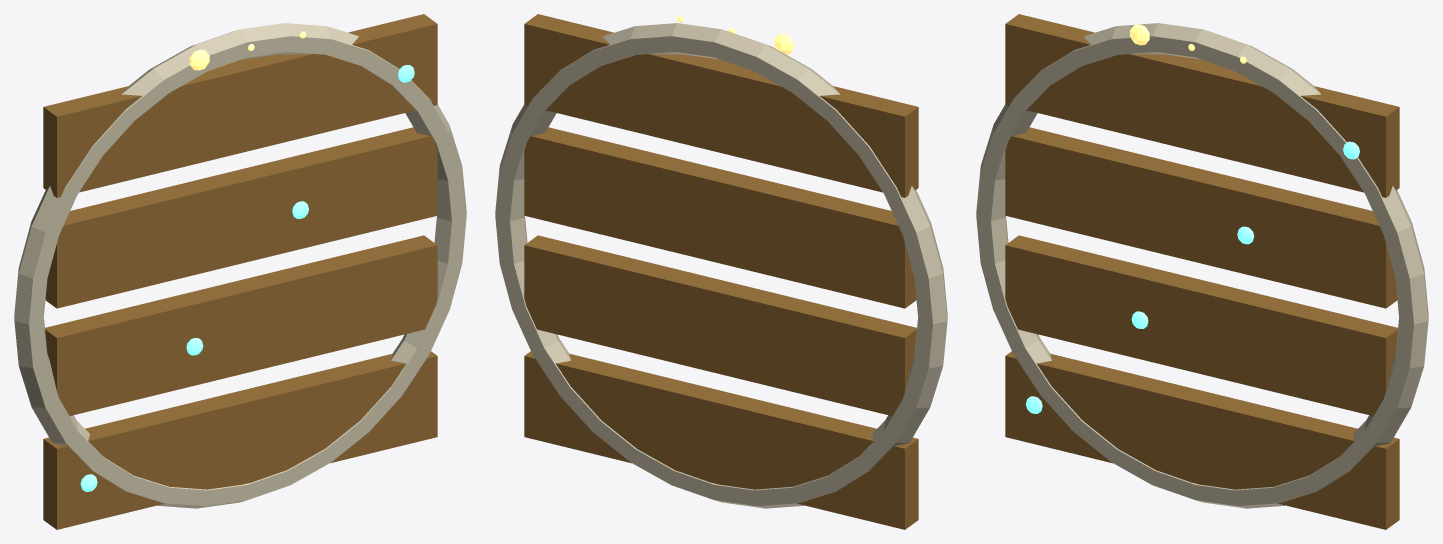
The model's file is 06_astrolabe_gate.glb.
3 renders of one model, left to right at view 1: azimuth 30°, elevation 25°; view 2: azimuth 150°, elevation 25°; view 3: azimuth 330°, elevation 25°, orthographic.
Parts seen in each view (by area): view 1: astrolabe_bar_1, astrolabe_bar_2, astrolabe_outer_nocol, astrolabe_bar_0, astrolabe_bar_3; view 2: astrolabe_bar_1, astrolabe_bar_2, astrolabe_outer_nocol, astrolabe_bar_0, astrolabe_bar_3; view 3: astrolabe_bar_1, astrolabe_bar_2, astrolabe_outer_nocol, astrolabe_bar_0, astrolabe_bar_3.
Part boxes in pixels (x1,y1,x2,y2): astrolabe_bar_1: [45, 235, 437, 416]; astrolabe_bar_2: [45, 127, 437, 308]; astrolabe_outer_nocol: [14, 23, 466, 508]; astrolabe_bar_0: [43, 351, 437, 529]; astrolabe_bar_3: [43, 14, 437, 197]; astrolabe_bar_1: [524, 235, 916, 416]; astrolabe_bar_2: [524, 127, 916, 308]; astrolabe_outer_nocol: [495, 23, 947, 508]; astrolabe_bar_0: [524, 351, 918, 529]; astrolabe_bar_3: [524, 14, 918, 197]; astrolabe_bar_1: [1005, 235, 1397, 416]; astrolabe_bar_2: [1005, 127, 1397, 308]; astrolabe_outer_nocol: [976, 23, 1428, 508]; astrolabe_bar_0: [1005, 351, 1399, 529]; astrolabe_bar_3: [1005, 14, 1399, 197].
Size of the model in its own units: 19.24 by 19.24 by 1.57.
